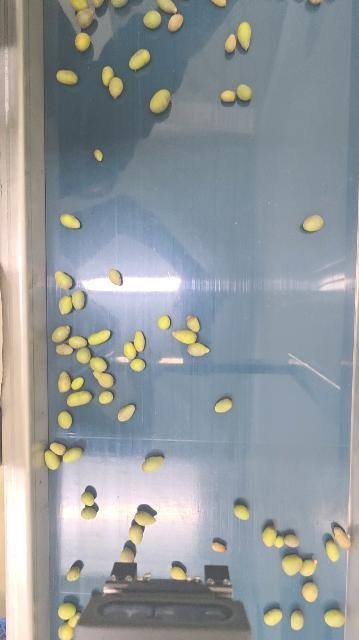Baby Potato: (149, 88, 172, 114), (128, 47, 153, 70), (281, 553, 304, 576), (333, 524, 353, 550), (236, 21, 253, 51), (75, 6, 97, 28), (324, 606, 347, 627), (65, 390, 93, 407), (303, 213, 325, 233), (172, 329, 199, 345), (142, 454, 165, 472), (92, 371, 115, 389), (54, 269, 73, 290), (61, 446, 83, 464), (108, 76, 125, 99), (88, 329, 111, 346), (56, 69, 79, 86), (187, 341, 211, 357), (325, 539, 341, 563), (143, 9, 162, 29), (60, 212, 81, 230), (302, 581, 319, 603), (44, 449, 61, 471), (262, 525, 278, 548), (52, 324, 71, 343), (236, 82, 254, 102), (301, 557, 319, 577), (57, 370, 72, 394), (264, 608, 284, 626), (74, 31, 91, 52), (134, 510, 156, 526), (58, 602, 77, 620), (214, 396, 233, 414), (167, 13, 184, 33), (128, 524, 144, 545), (290, 609, 305, 631), (118, 403, 135, 422), (89, 355, 108, 372), (70, 289, 85, 310), (156, 0, 178, 14), (101, 65, 115, 87), (58, 294, 72, 316), (233, 503, 250, 521), (58, 409, 72, 430), (224, 33, 238, 54), (66, 564, 82, 582), (58, 622, 74, 640), (133, 330, 146, 352), (49, 440, 67, 455), (186, 315, 201, 333), (76, 345, 91, 363), (122, 341, 137, 359), (68, 335, 88, 348), (220, 88, 237, 103), (109, 268, 123, 286), (98, 390, 114, 405), (170, 565, 186, 580), (55, 343, 73, 356), (285, 533, 300, 548), (81, 506, 97, 520), (157, 314, 171, 330), (71, 376, 85, 391), (68, 0, 89, 10), (130, 358, 146, 371), (121, 547, 134, 562), (68, 612, 81, 627), (81, 491, 94, 506), (212, 541, 227, 553), (109, 0, 130, 8), (208, 0, 228, 8), (275, 534, 285, 549), (94, 149, 103, 162), (306, 0, 326, 5)
